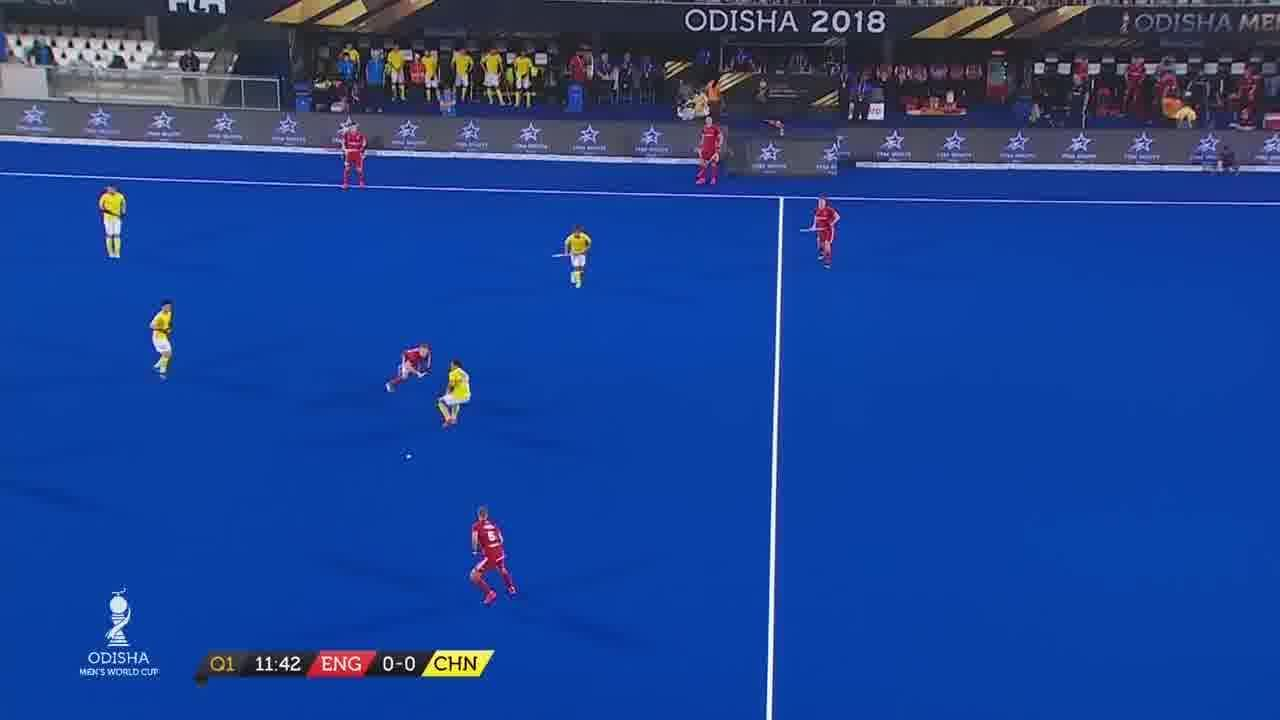ball: (396, 448, 419, 468)
